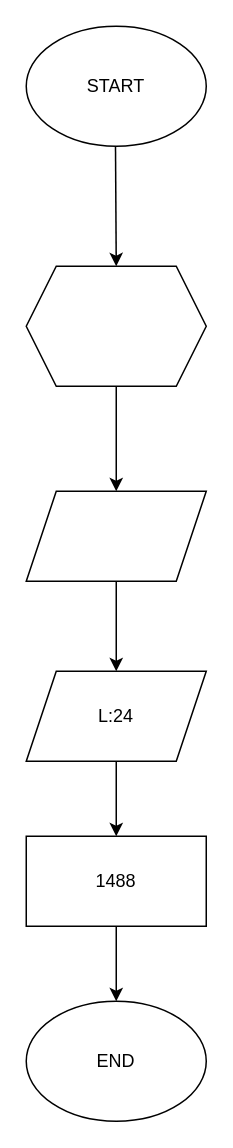
This 233x1148 diagram has some shape labels left out. The box of each missing label's shape, as (x1, y1, x2, y2) in pixels:
NIM:24241162 P:62 L:24: (25, 265, 206, 386)
P:62: (25, 490, 206, 581)
